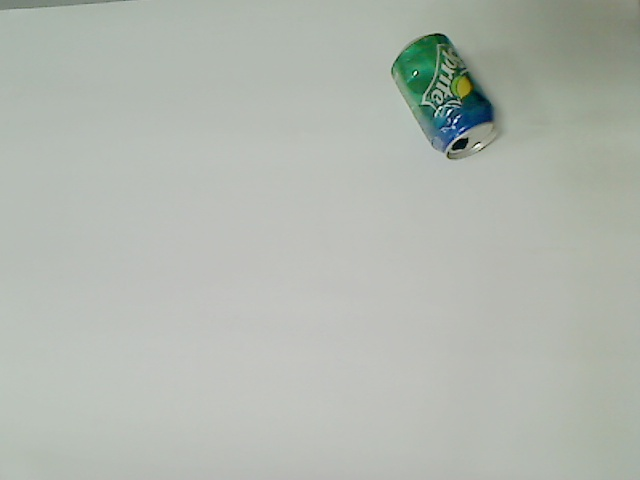can: (387, 31, 500, 161)
